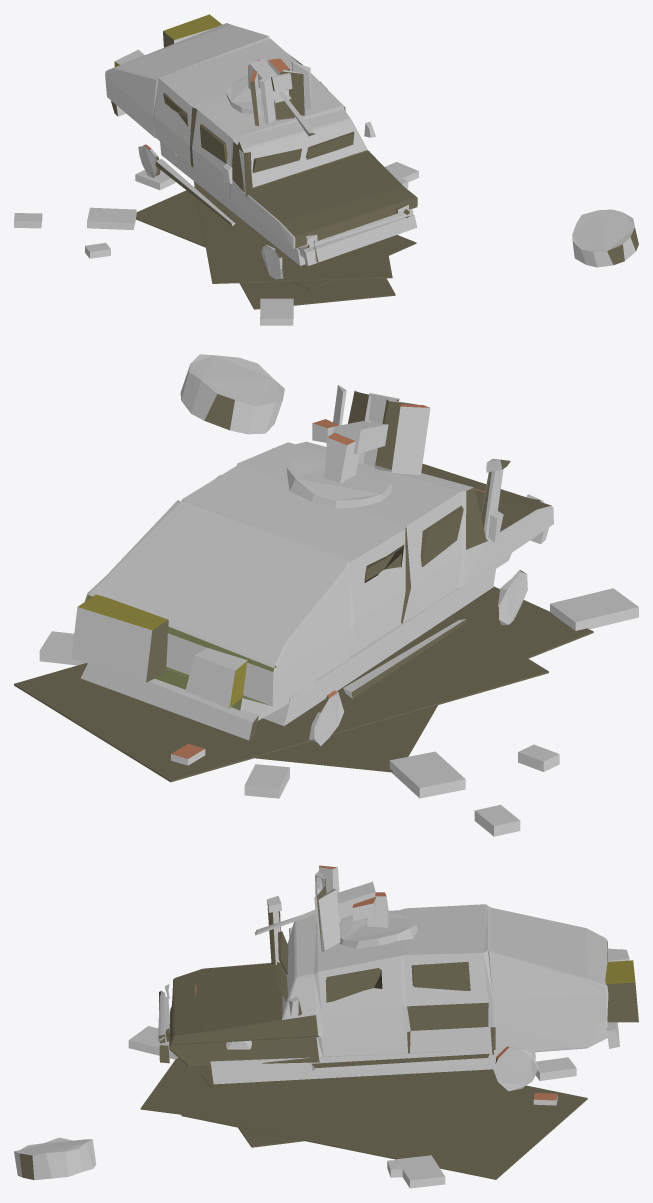
The model's file is SM_RestosVamtac_v2_LOD0.fbx.
The picture shows the model from 3 angles, top to bottom: view 1: azimuth 30°, elevation 25°; view 2: azimuth 150°, elevation 25°; view 3: azimuth 270°, elevation 25°; orthographic projection. The views are drawn at different scales.
Visible parts, largest first — view 1: SM_bloques.restos_vamtac_v2_LOD0; view 2: SM_bloques.restos_vamtac_v2_LOD0; view 3: SM_bloques.restos_vamtac_v2_LOD0.
Boxes of the visible parts, left/top/right/bottom form: SM_bloques.restos_vamtac_v2_LOD0: left=14, top=14, right=638, bottom=325; SM_bloques.restos_vamtac_v2_LOD0: left=14, top=354, right=638, bottom=836; SM_bloques.restos_vamtac_v2_LOD0: left=14, top=865, right=638, bottom=1188.
Bounding box in the file's own units: 7.7 × 3.14 × 8.52.
